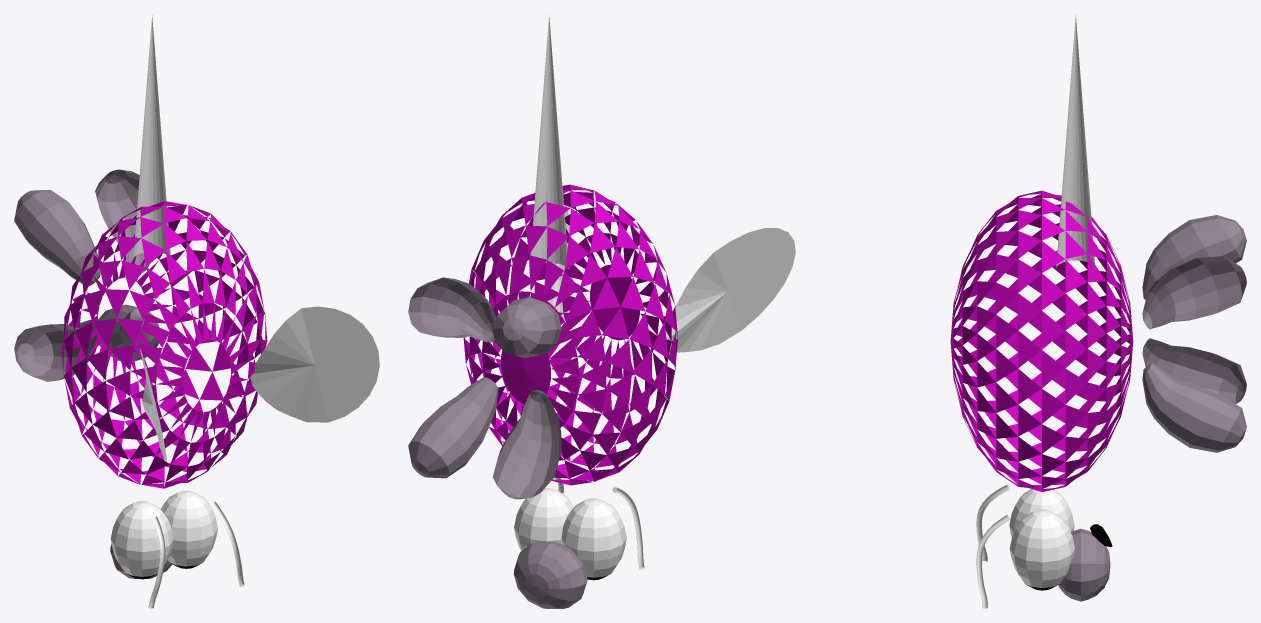
File: BEE.glb
3 views of the same model, side by side, from view 1: azimuth 30°, elevation 25°; view 2: azimuth 150°, elevation 25°; view 3: azimuth 270°, elevation 25° (orthographic). The views are drawn at different scales.
Visible parts, largest first — view 1: _0; view 2: _0; view 3: _0.
Boxes of the visible parts, box(x1,y1,x2,y2) form: _0: box(14, 14, 379, 608); _0: box(408, 15, 795, 608); _0: box(950, 14, 1246, 608).
Bounding box in the file's own units: 2.93 × 7.11 × 4.65.
